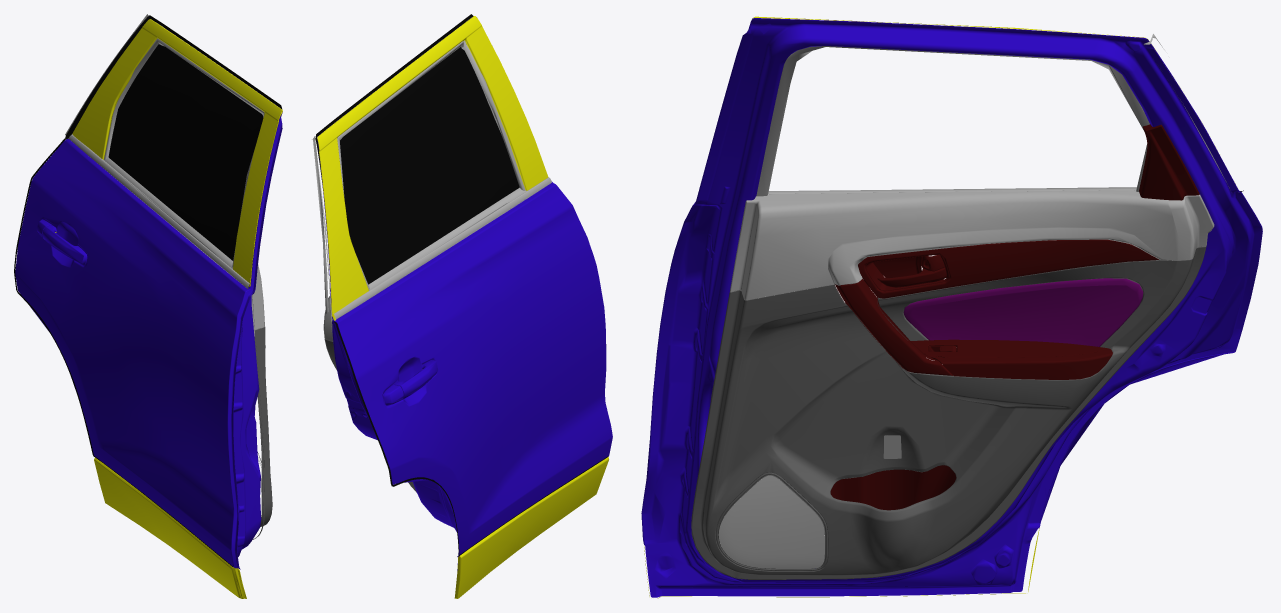
File: TOYOTA_URBAN_CRUISER_MID_EX_RR_DOORS_MESH.glb
3 renders of one model, left to right at view 1: azimuth 30°, elevation 25°; view 2: azimuth 150°, elevation 25°; view 3: azimuth 270°, elevation 25°, orthographic. The views are drawn at different scales.
Parts seen in each view (by area): view 1: TOYOTA_URBAN_CRUISER_MID_EX_RR_DOORS_MESH; view 2: TOYOTA_URBAN_CRUISER_MID_EX_RR_DOORS_MESH; view 3: TOYOTA_URBAN_CRUISER_MID_EX_RR_DOORS_MESH.
Boxes of the visible parts, x1=… form: TOYOTA_URBAN_CRUISER_MID_EX_RR_DOORS_MESH: x1=14, y1=14, x2=282, y2=598; TOYOTA_URBAN_CRUISER_MID_EX_RR_DOORS_MESH: x1=312, y1=14, x2=612, y2=598; TOYOTA_URBAN_CRUISER_MID_EX_RR_DOORS_MESH: x1=641, y1=16, x2=1262, y2=598.
Bounding box in the file's own units: 0.2925 × 1.17 × 1.04.
Materials: 11 (1 with a texture image).
